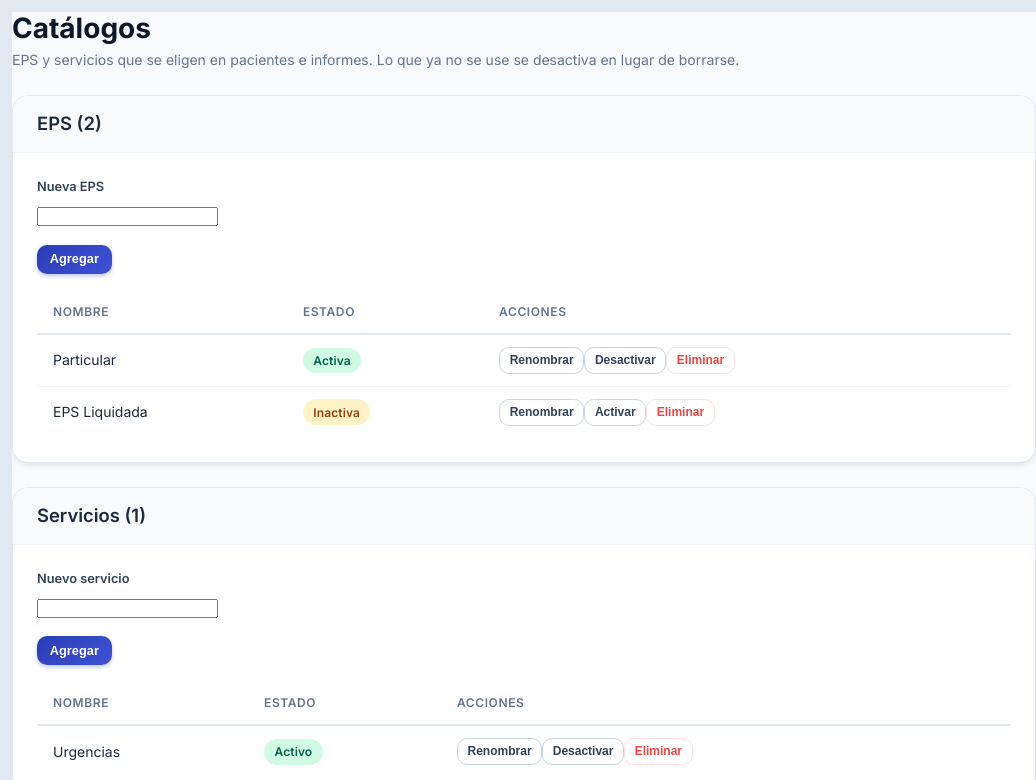
CatalogosPage › muestra el motivo si el backend no deja borrar (en uso)
Click the button with aria-label "Eliminar Urgencias" at (658, 752), box [624,738,692,765]
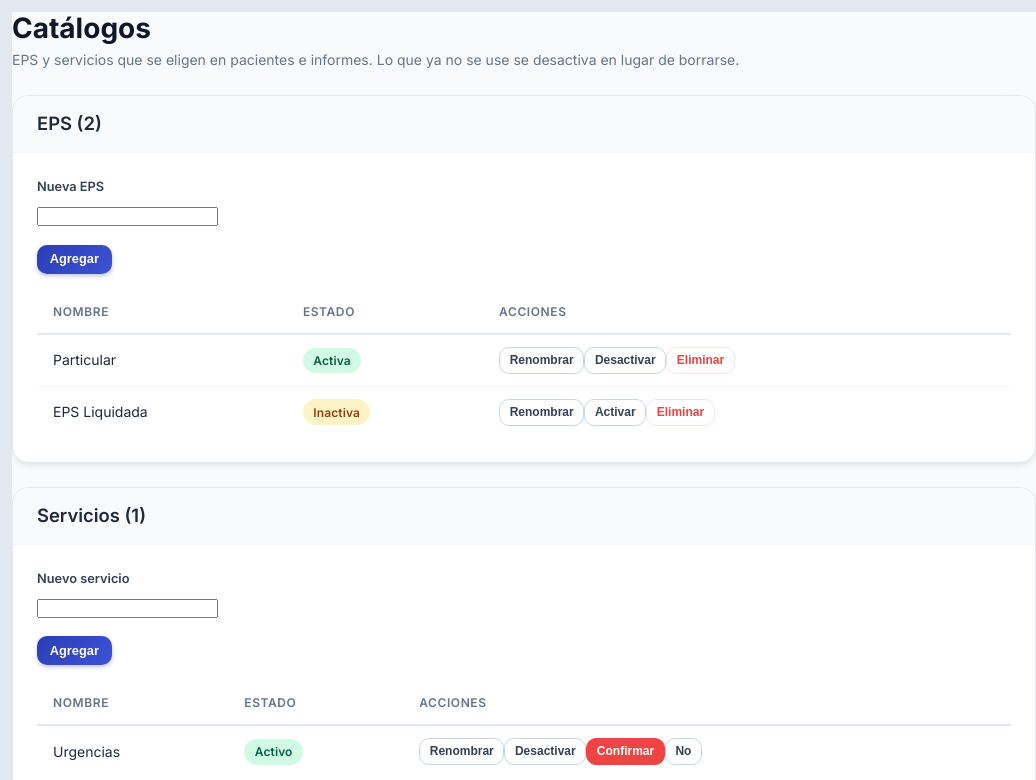
Click the button "Confirmar" at (626, 752), box [586,738,665,765]
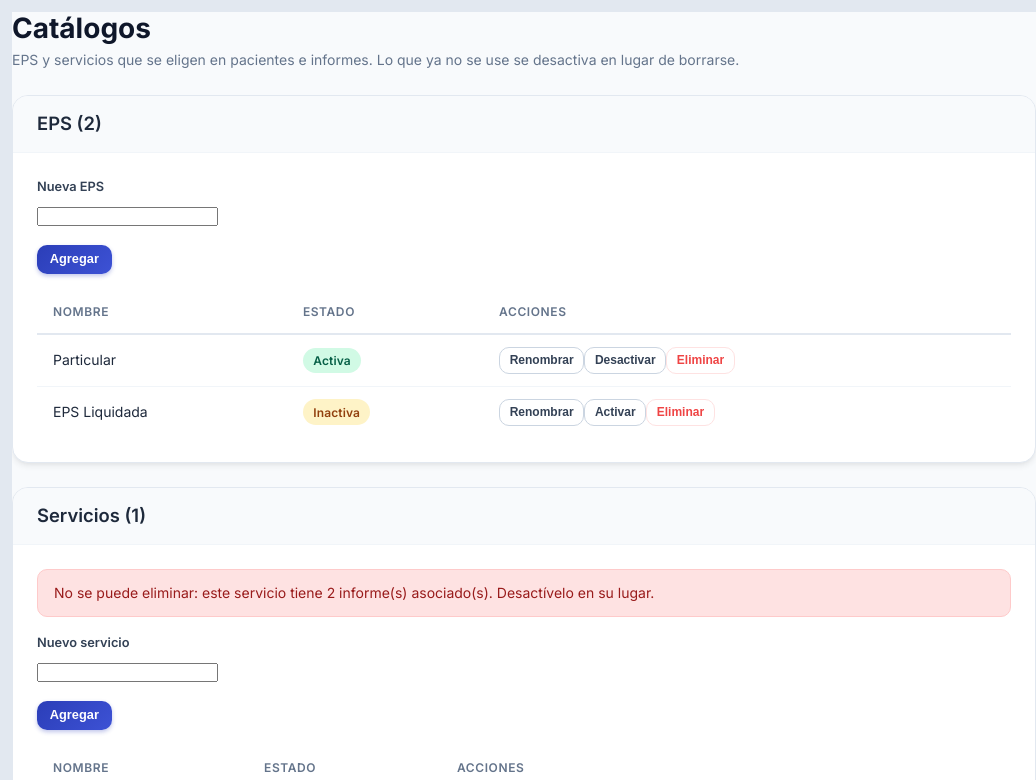
Expected: the text "Desactívelo en su lugar" is shown, [54,584,654,600]
